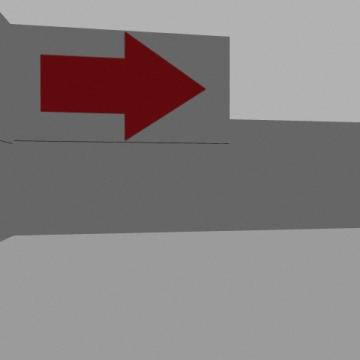red_right: (40, 32, 205, 140)
